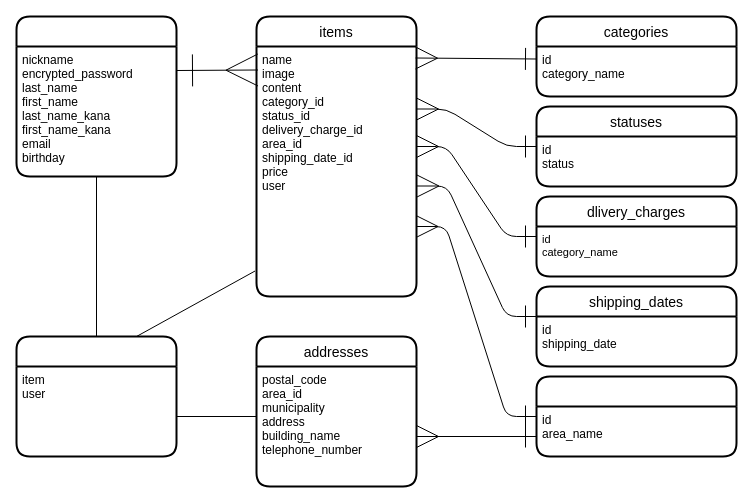
This 753x503 diagram has some shape labels left out. Here are the shapes that lost their labels. From the top down, the box of each, then its label:
(15, 15, 177, 177): users
(15, 335, 177, 457): purchases
(535, 375, 737, 457): areas
